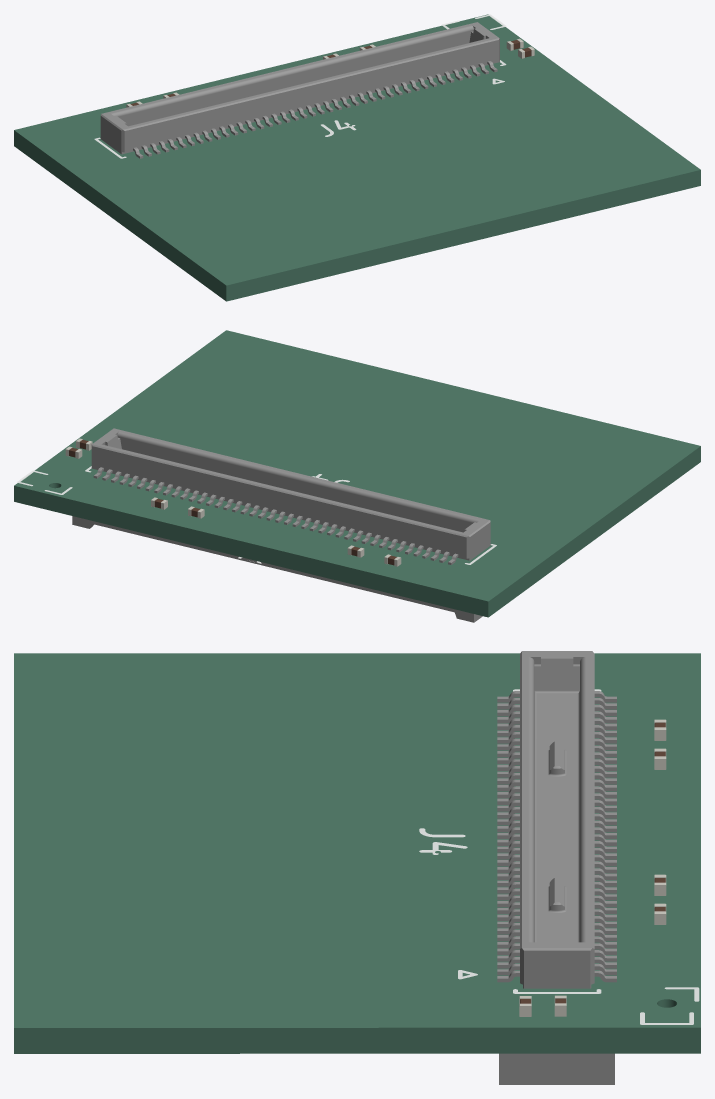
The model's file is asic-top-v7.glb.
The picture shows the model from 3 angles, top to bottom: view 1: azimuth 30°, elevation 25°; view 2: azimuth 150°, elevation 25°; view 3: azimuth 270°, elevation 25°; orthographic projection. The views are drawn at different scales.
Visible parts, largest first — view 1: =>[0:1:1:10], =>[0:1:1:3], =>[0:1:1:8]; view 2: =>[0:1:1:10], =>[0:1:1:3], =>[0:1:1:7]; view 3: =>[0:1:1:10], =>[0:1:1:3], =>[0:1:1:7], =>[0:1:1:8].
Boxes of the visible parts, x1,y1,x2,y2 form: =>[0:1:1:10]: (14,14,700,301); =>[0:1:1:3]: (100,22,499,158); =>[0:1:1:8]: (94,14,506,158); =>[0:1:1:10]: (14,330,700,617); =>[0:1:1:3]: (91,428,490,564); =>[0:1:1:7]: (72,516,482,622); =>[0:1:1:10]: (14,653,700,1053); =>[0:1:1:3]: (497,651,616,988); =>[0:1:1:7]: (499,1053,614,1084); =>[0:1:1:8]: (419,689,699,1024).
Bounding box in the file's own units: 0.022 × 0.00347 × 0.017.
